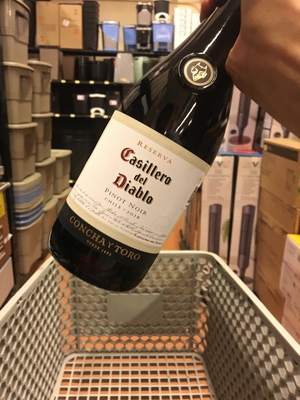casillero del diablo pinot noir: (53, 20, 237, 302)
